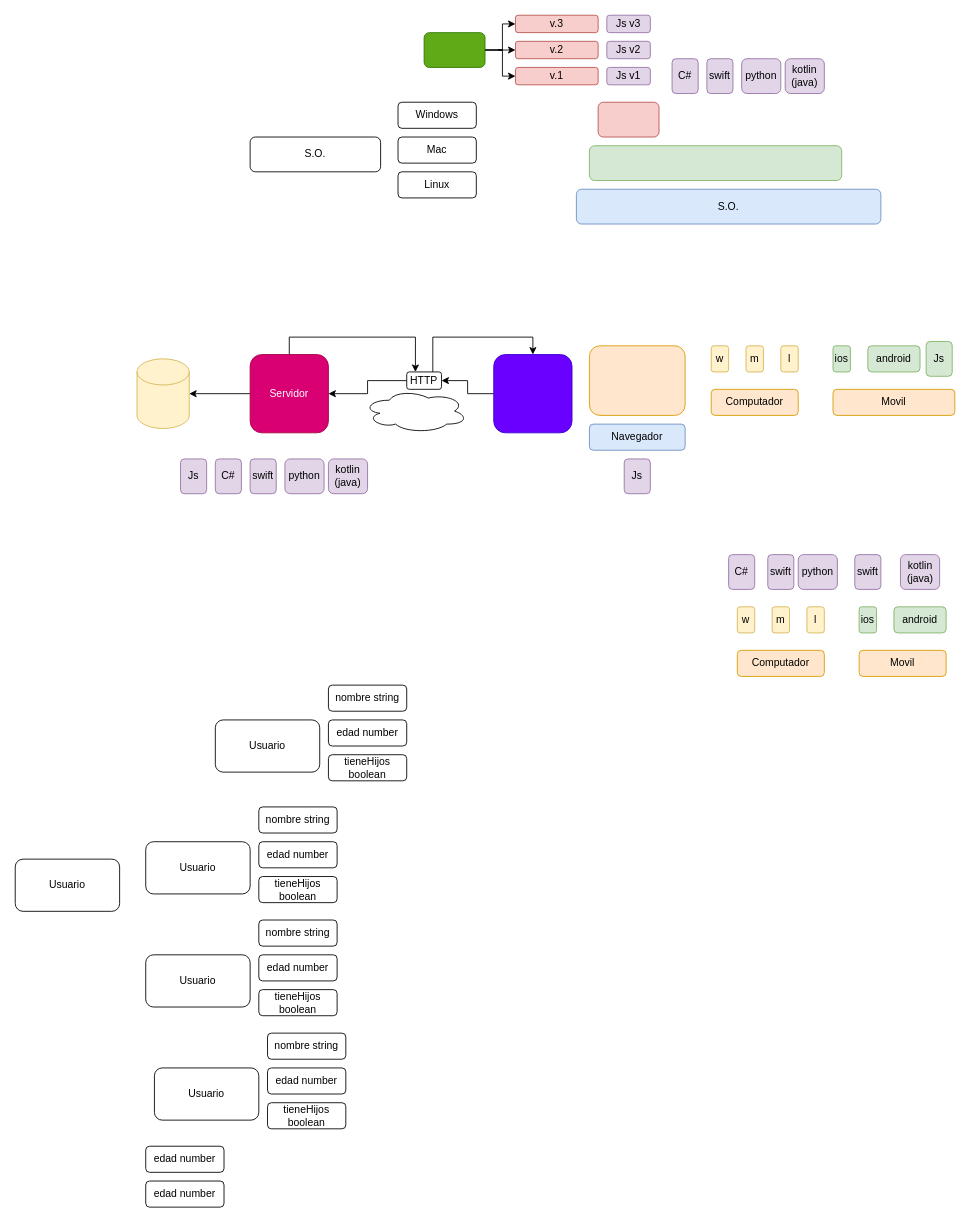
Image size: 970x1222. Some labels were removed from this diagram. Each missing label, with the centre of its shape:
App Nativo: [637,380]
BDD: [162,393]
Cliente: [532,393]
Compiladores: [715,163]
Gestor Node.js: [454,49]
Internet: [415,410]
Node.js: [628,119]
